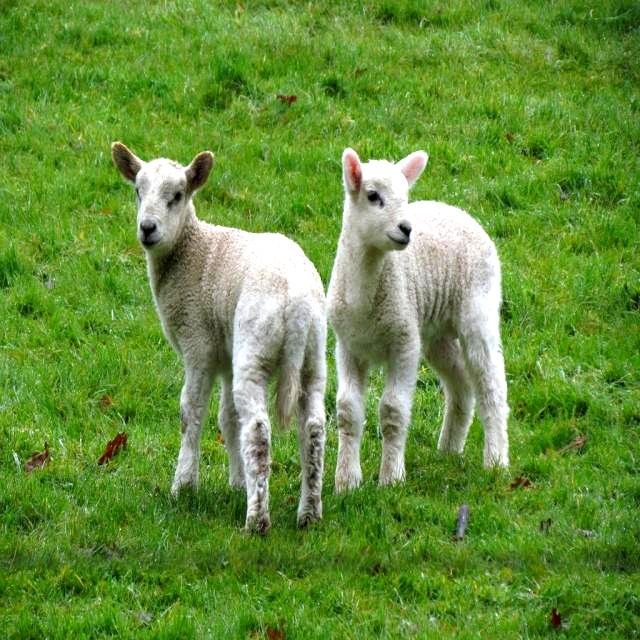sheep: (111, 142, 324, 531), (327, 150, 509, 490)
